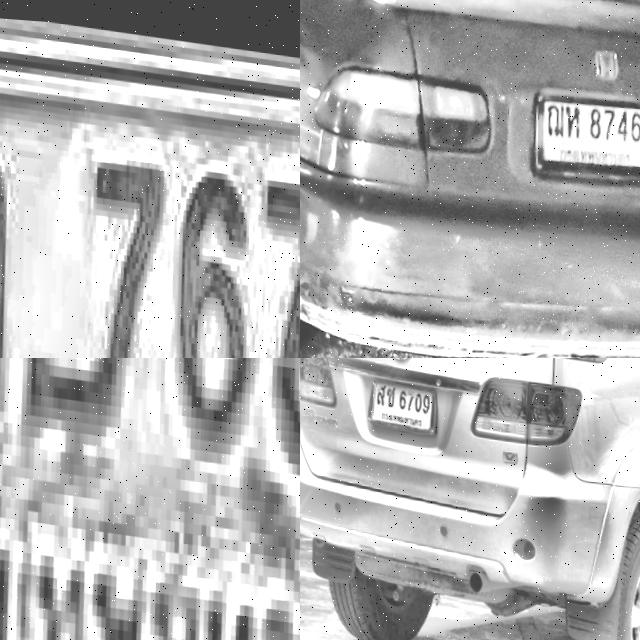license-plate: (0, 1, 300, 358), (0, 358, 300, 640), (519, 76, 640, 183), (358, 368, 436, 434)
